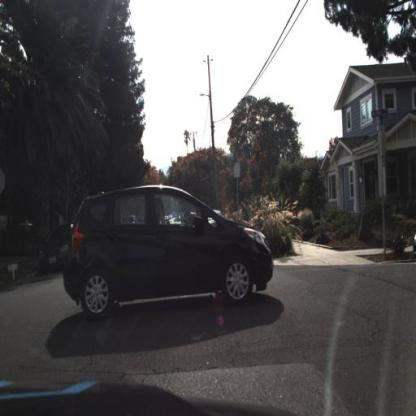car: (63, 185, 276, 320), (37, 227, 84, 274)
